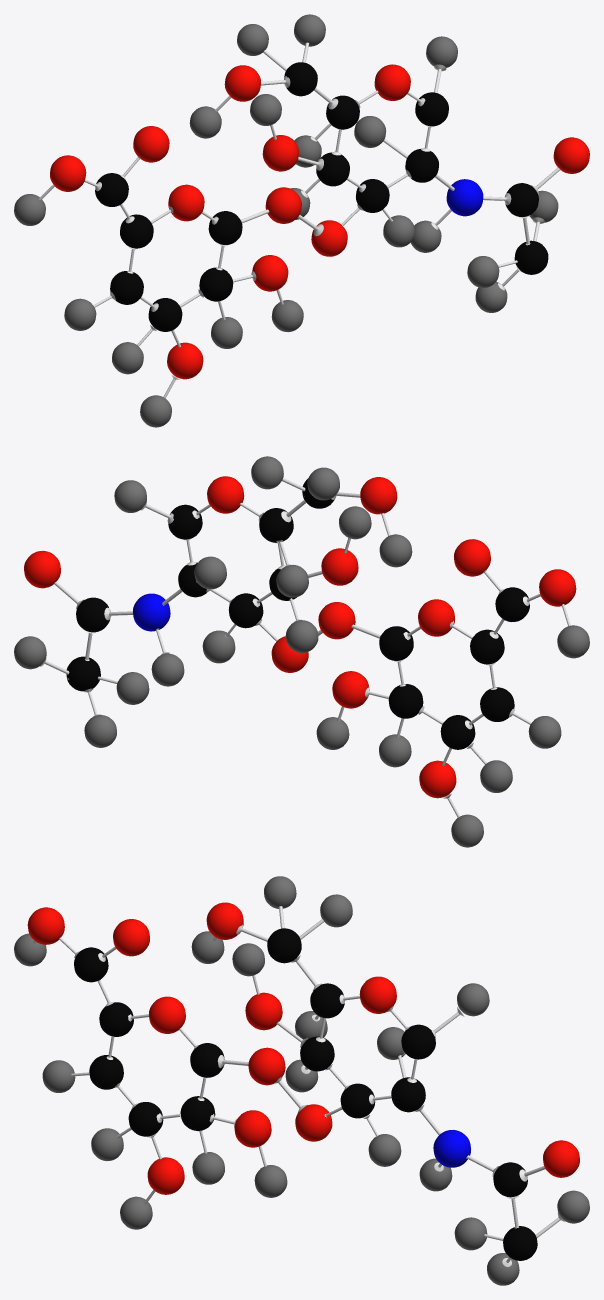
The model's file is acidoHialuronico.fbx.
The picture shows the model from 3 angles, top to bottom: view 1: azimuth 30°, elevation 25°; view 2: azimuth 150°, elevation 25°; view 3: azimuth 330°, elevation 25°; orthographic projection. The views are drawn at different scales.
Visible parts, largest first — view 1: conector, Nitrogeno, Oxigeno.009, Oxigeno, Oxigeno.010, Oxigeno.001, Oxigeno.008, Oxigeno.003, Oxigeno.005, Oxigeno.007, Oxigeno.002, Oxigeno.004 (+33 smaller); view 2: conector, Nitrogeno, Oxigeno.001, Oxigeno.008, Oxigeno, Oxigeno.010, Oxigeno.009, Oxigeno.005, Oxigeno.007, Oxigeno.003, Oxigeno.002, Oxigeno.004 (+32 smaller); view 3: conector, Nitrogeno, Oxigeno.004, Oxigeno.007, Oxigeno, Oxigeno.003, Oxigeno.010, Oxigeno.001, Oxigeno.002, Oxigeno.005, Oxigeno.009, Oxigeno.006 (+34 smaller).
Boxes of the visible parts, <box> form: conector: <box>39,42,561,398</box>; Nitrogeno: <box>446,179,483,216</box>; Oxigeno.009: <box>374,64,410,100</box>; Oxigeno: <box>50,155,86,191</box>; Oxigeno.010: <box>553,137,589,173</box>; Oxigeno.001: <box>133,126,169,162</box>; Oxigeno.008: <box>224,65,260,101</box>; Oxigeno.003: <box>167,342,203,379</box>; Oxigeno.005: <box>265,187,301,223</box>; Oxigeno.007: <box>262,135,298,171</box>; Oxigeno.002: <box>168,184,204,221</box>; Oxigeno.004: <box>252,255,288,291</box>; conector: <box>40,478,570,817</box>; Nitrogeno: <box>133,593,170,631</box>; Oxigeno.001: <box>454,539,490,576</box>; Oxigeno.008: <box>360,477,397,514</box>; Oxigeno: <box>539,569,576,606</box>; Oxigeno.010: <box>24,550,60,588</box>; Oxigeno.009: <box>207,476,244,513</box>; Oxigeno.005: <box>318,602,355,639</box>; Oxigeno.007: <box>321,548,358,585</box>; Oxigeno.003: <box>419,760,456,798</box>; Oxigeno.002: <box>418,599,454,636</box>; Oxigeno.004: <box>332,671,369,708</box>; conector: <box>33,906,564,1266</box>; Nitrogeno: <box>433,1130,470,1167</box>; Oxigeno.004: <box>234,1110,271,1147</box>; Oxigeno.007: <box>245,992,282,1030</box>; Oxigeno: <box>27,907,64,944</box>; Oxigeno.003: <box>147,1157,184,1194</box>; Oxigeno.010: <box>543,1140,579,1177</box>; Oxigeno.001: <box>113,919,149,956</box>; Oxigeno.002: <box>148,996,185,1033</box>; Oxigeno.005: <box>248,1047,285,1085</box>; Oxigeno.009: <box>359,976,396,1013</box>; Oxigeno.006: <box>295,1104,332,1141</box>.
Size of the model in its own units: 516 by 313 by 62.64.
